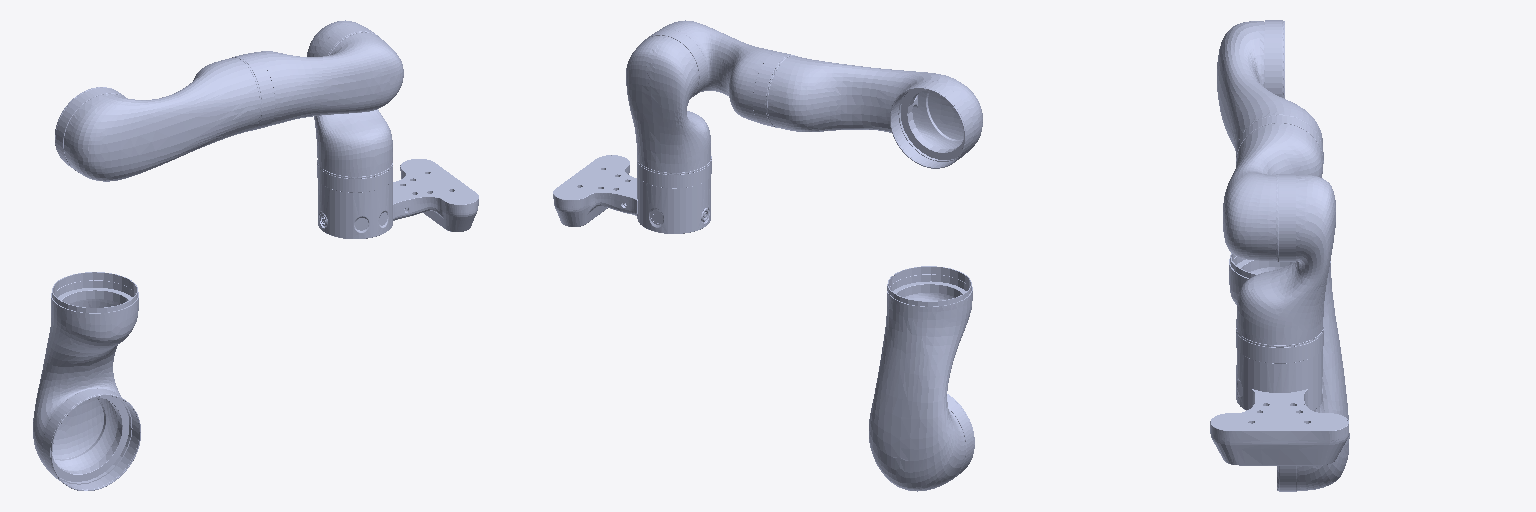
robot.urdf — tcb710v:
<?xml version="1.0" encoding="utf-8"?>
<!-- This URDF was automatically created by SolidWorks to URDF Exporter! Originally created by Stephen Brawner (brawner@gmail.com) 
     Commit Version: 1.6.0-4-g7f85cfe  Build Version: 1.6.7995.38578
     For more information, please see http://wiki.ros.org/sw_urdf_exporter -->
<robot
  name="tcb710v">
  <mujoco>
    <compiler
      meshdir="../meshes/"
      discardvisual="false"
    />
  </mujoco> 
  <link
    name="link0">
    <inertial>
      <origin
        xyz="-0.0020391678669849 0.000208461233542916 0.043797046431842"
        rpy="0 0 0" />
      <mass
        value="0.230943297728627" />
      <inertia
        ixx="0.00057885793198858"
        ixy="2.49644295158404E-06"
        ixz="-3.62761994221811E-06"
        iyy="0.000597326060992728"
        iyz="8.87603974516216E-07"
        izz="0.000630268815467399" />
    </inertial>
    <visual>
      <origin
        xyz="0 0 0"
        rpy="0 0 0" />
      <geometry>
        <mesh
          filename="package://tl_description/meshes/tcb710v/link0.STL" />
      </geometry>
      <material
        name="">
        <color
          rgba="0.792156862745098 0.819607843137255 0.933333333333333 1" />
      </material>
    </visual>
    <collision>
      <origin
        xyz="0 0 0"
        rpy="0 0 0" />
      <geometry>
        <mesh
          filename="package://tl_description/meshes/tcb710v/link0.STL" />
      </geometry>
    </collision>
  </link>
  <link
    name="link1">
    <inertial>
      <origin
        xyz="-2.82592835966573E-06 -0.0149440554612562 0.0760738628611228"
        rpy="0 0 0" />
      <mass
        value="0.188795049535535" />
      <inertia
        ixx="0.000644330974536614"
        ixy="5.55804168467177E-08"
        ixz="-5.40921744938158E-08"
        iyy="0.000669839544820846"
        iyz="0.000101917330586459"
        izz="0.000292784373513458" />
    </inertial>
    <visual>
      <origin
        xyz="0 0 0"
        rpy="0 0 0" />
      <geometry>
        <mesh
          filename="package://tl_description/meshes/tcb710v/link1.STL" />
      </geometry>
      <material
        name="">
        <color
          rgba="0.792156862745098 0.819607843137255 0.933333333333333 1" />
      </material>
    </visual>
    <collision>
      <origin
        xyz="0 0 0"
        rpy="0 0 0" />
      <geometry>
        <mesh
          filename="package://tl_description/meshes/tcb710v/link1.STL" />
      </geometry>
    </collision>
  </link>
  <joint
    name="joint1"
    type="revolute">
    <origin
      xyz="0 0 0.12215"
      rpy="0 0 0" />
    <parent
      link="link0" />
    <child
      link="link1" />
    <axis
      xyz="0 0 1" />
    <limit
      lower="-3.1226"
      upper="3.1226"
      effort="0"
      velocity="0" />
  </joint>
  <link
    name="link2">
    <inertial>
      <origin
        xyz="-1.20347801173391E-05 -0.0623096534981243 0.0137313757510769"
        rpy="0 0 0" />
      <mass
        value="0.167852810050995" />
      <inertia
        ixx="0.000623582919856085"
        ixy="-1.02023977094882E-07"
        ixz="-2.62605885954627E-08"
        iyy="0.000204004006193839"
        iyz="-9.63924565522137E-05"
        izz="0.00065392663703825" />
    </inertial>
    <visual>
      <origin
        xyz="0 0 0"
        rpy="0 0 0" />
      <geometry>
        <mesh
          filename="package://tl_description/meshes/tcb710v/link2.STL" />
      </geometry>
      <material
        name="">
        <color
          rgba="0.792156862745098 0.819607843137255 0.933333333333333 1" />
      </material>
    </visual>
    <collision>
      <origin
        xyz="0 0 0"
        rpy="0 0 0" />
      <geometry>
        <mesh
          filename="package://tl_description/meshes/tcb710v/link2.STL" />
      </geometry>
    </collision>
  </link>
  <joint
    name="joint2"
    type="revolute">
    <origin
      xyz="0 0.00665 0.14085"
      rpy="-1.5708 0 0" />
    <parent
      link="link1" />
    <child
      link="link2" />
    <axis
      xyz="0 0 1" />
    <limit
      lower="-2.3550"
      upper="2.3550"
      effort="0"
      velocity="0" />
  </joint>
  <link
    name="link3">
    <inertial>
      <origin
        xyz="5.18146686592063E-06 0.0163972367026016 0.0859506159325998"
        rpy="0 0 0" />
      <mass
        value="0.168577102290271" />
      <inertia
        ixx="0.000629526320447063"
        ixy="-2.0304024617751E-08"
        ixz="-6.35128891833837E-08"
        iyy="0.000646660868683645"
        iyz="-9.33670770732661E-05"
        izz="0.000173964987041362" />
    </inertial>
    <visual>
      <origin
        xyz="0 0 0"
        rpy="0 0 0" />
      <geometry>
        <mesh
          filename="package://tl_description/meshes/tcb710v/link3.STL" />
      </geometry>
      <material
        name="">
        <color
          rgba="0.792156862745098 0.819607843137255 0.933333333333333 1" />
      </material>
    </visual>
    <collision>
      <origin
        xyz="0 0 0"
        rpy="0 0 0" />
      <geometry>
        <mesh
          filename="package://tl_description/meshes/tcb710v/link3.STL" />
      </geometry>
    </collision>
  </link>
  <joint
    name="joint3"
    type="revolute">
    <origin
      xyz="0 -0.16015 -0.00665"
      rpy="1.5708 0 0" />
    <parent
      link="link2" />
    <child
      link="link3" />
    <axis
      xyz="0 0 1" />
    <limit
      lower="-3.1226"
      upper="3.1226"
      effort="0"
      velocity="0" />
  </joint>
  <link
    name="link4">
    <inertial>
      <origin
        xyz="0.065499659351994 2.76494201778554E-06 -0.0144299008396883"
        rpy="0 0 0" />
      <mass
        value="0.14536834969005" />
      <inertia
        ixx="0.000131598162570445"
        ixy="2.65083133089721E-08"
        ixz="-7.17193211459111E-05"
        iyy="0.000526467550605314"
        iyz="-8.8551318802885E-09"
        izz="0.000544513615751543" />
    </inertial>
    <visual>
      <origin
        xyz="0 0 0"
        rpy="0 0 0" />
      <geometry>
        <mesh
          filename="package://tl_description/meshes/tcb710v/link4.STL" />
      </geometry>
      <material
        name="">
        <color
          rgba="0.792156862745098 0.819607843137255 0.933333333333333 1" />
      </material>
    </visual>
    <collision>
      <origin
        xyz="0 0 0"
        rpy="0 0 0" />
      <geometry>
        <mesh
          filename="package://tl_description/meshes/tcb710v/link4.STL" />
      </geometry>
    </collision>
  </link>
  <joint
    name="joint4"
    type="revolute">
    <origin
      xyz="0 -0.00515 0.16035"
      rpy="-1.5708 0 0" />
    <parent
      link="link3" />
    <child
      link="link4" />
    <axis
      xyz="0 0 1" />
    <limit
      lower="-4.1364"
      upper="0.9948"
      effort="0"
      velocity="0" />
  </joint>
  <link
    name="link5">
    <inertial>
      <origin
        xyz="-5.11053865881461E-06 -0.0131445599014293 -0.0626746043751803"
        rpy="0 0 0" />
      <mass
        value="0.089981788677737" />
      <inertia
        ixx="0.000204808490365052"
        ixy="-1.1622257166313E-08"
        ixz="-4.07643004767559E-08"
        iyy="0.000207969738316151"
        iyz="-3.60478114246133E-05"
        izz="7.75189799125009E-05" />
    </inertial>
    <visual>
      <origin
        xyz="0 0 0"
        rpy="0 0 0" />
      <geometry>
        <mesh
          filename="package://tl_description/meshes/tcb710v/link5.STL" />
      </geometry>
      <material
        name="">
        <color
          rgba="0.792156862745098 0.819607843137255 0.933333333333333 1" />
      </material>
    </visual>
    <collision>
      <origin
        xyz="0 0 0"
        rpy="0 0 0" />
      <geometry>
        <mesh
          filename="package://tl_description/meshes/tcb710v/link5.STL" />
      </geometry>
    </collision>
  </link>
  <joint
    name="joint5"
    type="revolute">
    <origin
      xyz="0.16615 0 0.00515"
      rpy="1.5708 0 -1.5708" />
    <parent
      link="link4" />
    <child
      link="link5" />
    <axis
      xyz="0 0 -1" />
    <limit
      lower="-3.1226"
      upper="3.1226"
      effort="0"
      velocity="0" />
  </joint>
  <link
    name="link6">
    <inertial>
      <origin
        xyz="-0.0398707312600405 -1.29749997272444E-05 -0.00873816110128991"
        rpy="0 0 0" />
      <mass
        value="0.0915266768417735" />
      <inertia
        ixx="8.0713041391209E-05"
        ixy="3.62631341314048E-08"
        ixz="3.15887030570785E-05"
        iyy="0.000167005961446436"
        iyz="-1.27355290214368E-08"
        izz="0.000170834721676875" />
    </inertial>
    <visual>
      <origin
        xyz="0 0 0"
        rpy="0 0 0" />
      <geometry>
        <mesh
          filename="package://tl_description/meshes/tcb710v/link6.STL" />
      </geometry>
      <material
        name="">
        <color
          rgba="0.792156862745098 0.819607843137255 0.933333333333333 1" />
      </material>
    </visual>
    <collision>
      <origin
        xyz="0 0 0"
        rpy="0 0 0" />
      <geometry>
        <mesh
          filename="package://tl_description/meshes/tcb710v/link6.STL" />
      </geometry>
    </collision>
  </link>
  <joint
    name="joint6"
    type="revolute">
    <origin
      xyz="0 0.00615 -0.11335"
      rpy="1.5708 0 0" />
    <parent
      link="link5" />
    <child
      link="link6" />
    <axis
      xyz="0 0 -1" />
    <limit
      lower="-3.8397"
      upper="0.6981"
      effort="0"
      velocity="0" />
  </joint>
  <link
    name="link7">
    <inertial>
      <origin
        xyz="0.0456847637278899 -8.93651718985325E-05 -0.0138517347307595"
        rpy="0 0 0" />
      <mass
        value="0.172279546305211" />
      <inertia
        ixx="0.000136996297582864"
        ixy="2.46315674141387E-06"
        ixz="-6.06548292485205E-05"
        iyy="0.000398400902288599"
        iyz="1.44296436244781E-07"
        izz="0.000453491798648841" />
    </inertial>
    <visual>
      <origin
        xyz="0 0 0"
        rpy="0 0 0" />
      <geometry>
        <mesh
          filename="package://tl_description/meshes/tcb710v/link7.STL" />
      </geometry>
      <material
        name="">
        <color
          rgba="0.792156862745098 0.819607843137255 0.933333333333333 1" />
      </material>
    </visual>
    <collision>
      <origin
        xyz="0 0 0"
        rpy="0 0 0" />
      <geometry>
        <mesh
          filename="package://tl_description/meshes/tcb710v/link7.STL" />
      </geometry>
    </collision>
  </link>
  <joint
    name="joint7"
    type="revolute">
    <origin
      xyz="-0.1615 0 0.006025"
      rpy="1.5708 0.0013814 -1.5708" />
    <parent
      link="link6" />
    <child
      link="link7" />
    <axis
      xyz="0 0 1" />
    <limit
      lower="-3.1226"
      upper="3.1226"
      effort="0"
      velocity="0" />
  </joint>
  <link
    name="camera_link">
    <inertial>
      <origin
        xyz="0.0124843809235488 -0.00117308084450395 0.00587064815044203"
        rpy="0 0 0" />
      <mass
        value="0.0471699643529892" />
      <inertia
        ixx="2.89731237351343E-05"
        ixy="5.84027754800684E-10"
        ixz="-4.33349809457694E-09"
        iyy="4.39204834930741E-06"
        iyz="-4.20816144299462E-07"
        izz="2.87281194018569E-05" />
    </inertial>
    <visual>
      <origin
        xyz="0 0 0"
        rpy="0 0 0" />
      <geometry>
        <mesh
          filename="package://tl_description/meshes/tcb710v/camera_link.STL" />
      </geometry>
      <material
        name="">
        <color
          rgba="0.792156862745098 0.819607843137255 0.933333333333333 1" />
      </material>
    </visual>
    <collision>
      <origin
        xyz="0 0 0"
        rpy="0 0 0" />
      <geometry>
        <mesh
          filename="package://tl_description/meshes/tcb710v/camera_link.STL" />
      </geometry>
    </collision>
  </link>
  <joint
    name="camera_joint"
    type="fixed">
    <origin
      xyz="0.0779999255759338 0.000232768493115401 -0.00871872165882459"
      rpy="0 0 0.00138141582877064" />
    <parent
      link="link7" />
    <child
      link="camera_link" />
    <axis
      xyz="0 0 0" />
  </joint>
</robot>

--- Render facts (derived) ---
3 views of the same robot in one strip: view 1: azimuth 30°, elevation 25°; view 2: azimuth 150°, elevation 25°; view 3: azimuth 270°, elevation 25° (orthographic).
Robot: tcb710v — 9 links, 8 joints (7 revolute, 1 fixed); root link link0; default pose: every joint at zero.
Visible links, largest first — view 1: link2, link4, link5, link7, link6; view 2: link2, link4, link6, link7, link5; view 3: link7, link6, link5, link4, link2.
Link boxes in pixels (x1,y1,x2,y2): link2: [33, 272, 140, 490]; link4: [55, 57, 259, 181]; link5: [232, 32, 403, 130]; link7: [317, 159, 478, 238]; link6: [307, 20, 392, 176]; link2: [869, 266, 974, 491]; link4: [768, 56, 982, 168]; link6: [626, 29, 710, 172]; link7: [553, 155, 711, 233]; link5: [660, 20, 794, 127]; link7: [1210, 327, 1348, 465]; link6: [1236, 174, 1335, 344]; link5: [1223, 114, 1323, 260]; link4: [1217, 20, 1322, 150]; link2: [1229, 253, 1349, 491].
Size in the robot's own frame: 0.4359 by 0.1124 by 0.4103 metres.
Meshes: 9 distinct files referenced, 6 mesh visuals loaded (6 binary STL); not drawn: 3 (reference not matched to a file when rendering).
